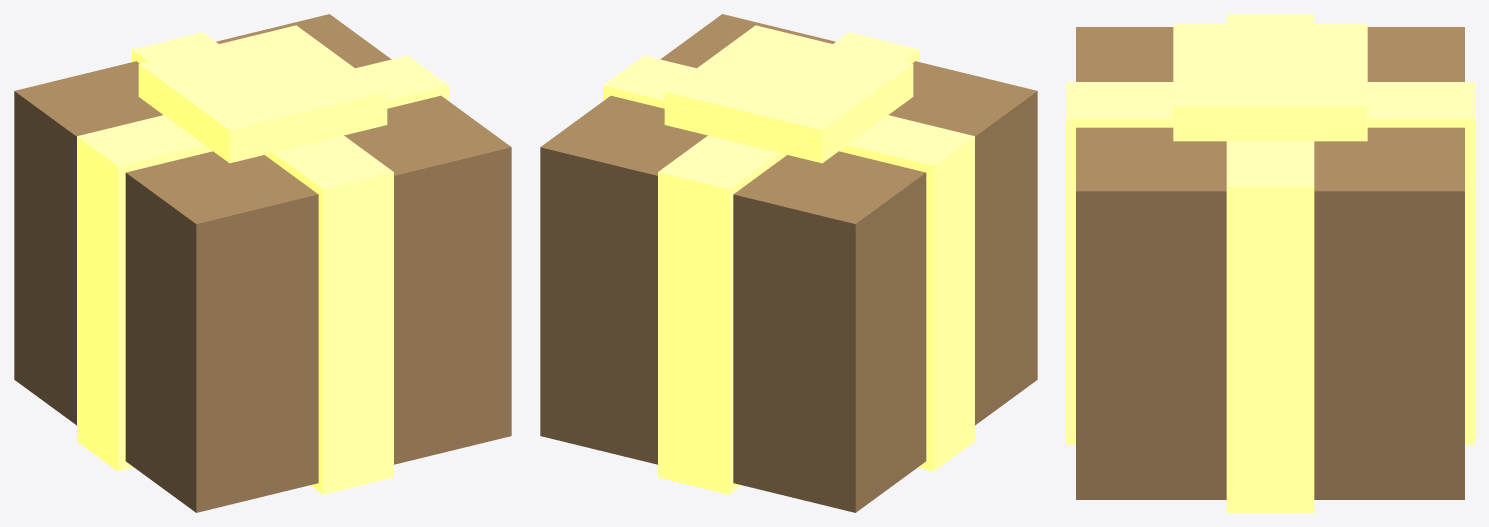
File: crate.glb
3 renders of one model, left to right at view 1: azimuth 30°, elevation 25°; view 2: azimuth 150°, elevation 25°; view 3: azimuth 270°, elevation 25°, orthographic. The views are drawn at different scales.
Parts seen in each view (by area): view 1: Crate; view 2: Crate; view 3: Crate.
Boxes of the visible parts, left/top/right/bottom form: Crate: left=14, top=14, right=511, bottom=512; Crate: left=540, top=14, right=1037, bottom=512; Crate: left=1066, top=14, right=1474, bottom=512.
Bounding box in the file's own units: 0.84 × 0.82 × 0.84.
